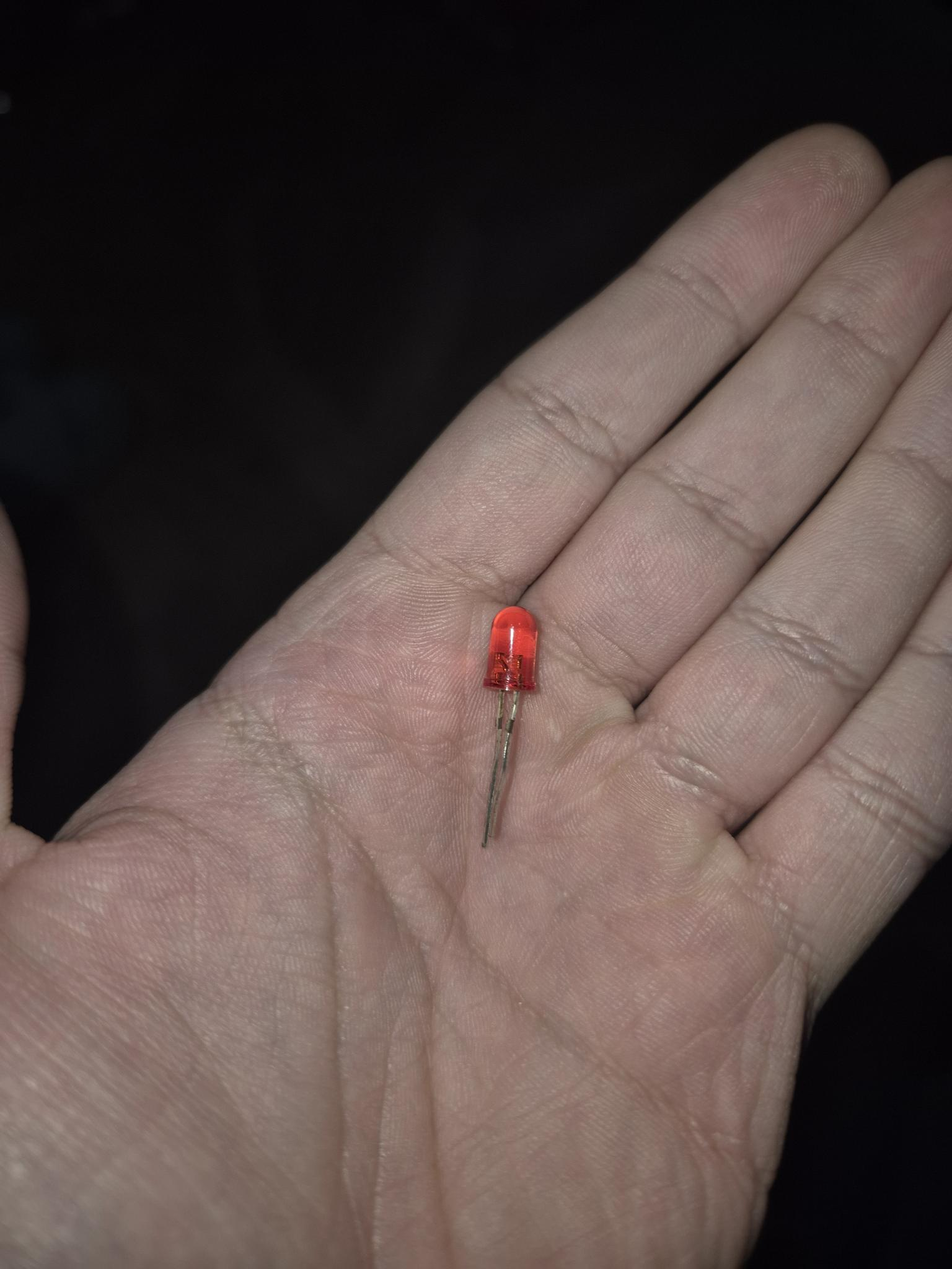led-diode: (481, 606, 538, 847)
